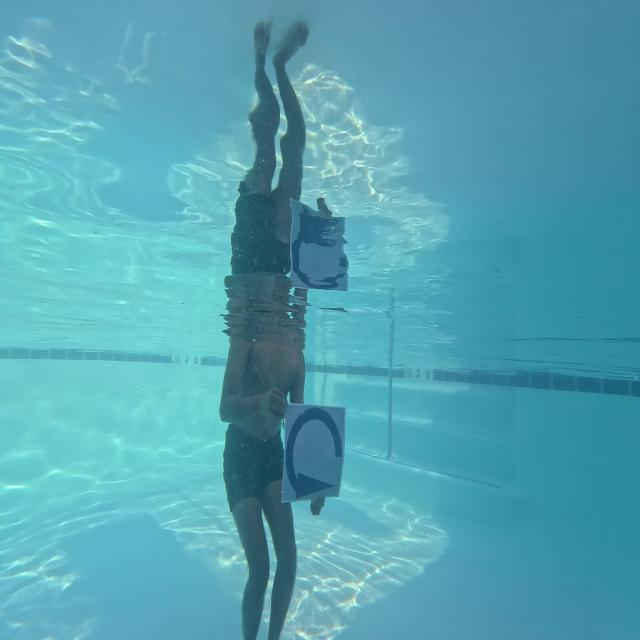blue_side: (279, 406, 344, 509)
